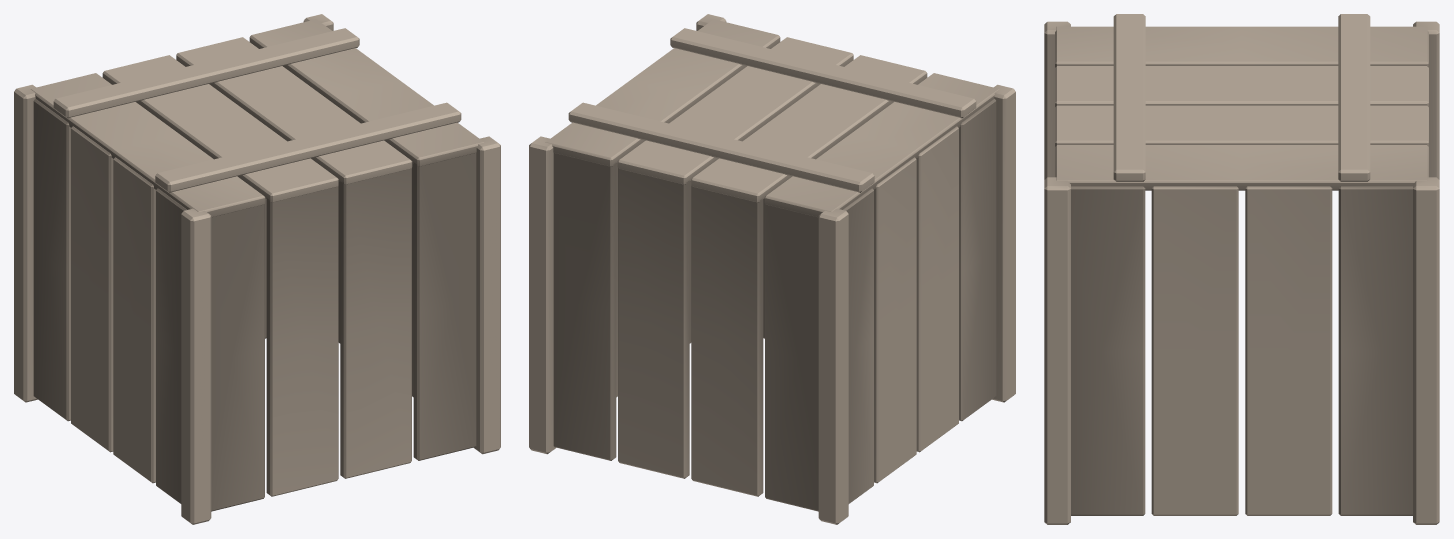
Rendered from crate.glb.
3 views of the same model, side by side, from view 1: azimuth 30°, elevation 25°; view 2: azimuth 150°, elevation 25°; view 3: azimuth 270°, elevation 25° (orthographic). The views are drawn at different scales.
Parts seen in each view (by area): view 1: board; view 2: board; view 3: board.
Boxes of the visible parts, box(x1,y1,x2,y2) form: board: box(14, 14, 500, 524); board: box(529, 14, 1015, 524); board: box(1044, 14, 1439, 524).
Size of the model in its own units: 0.74 by 0.7245 by 0.74.
